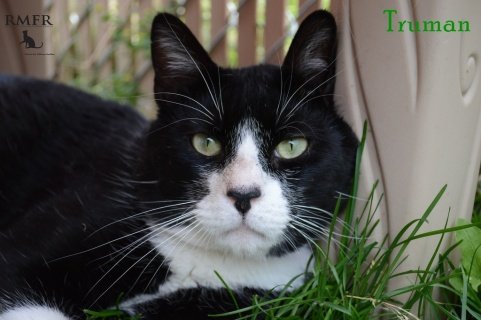Cat: (0, 7, 382, 319)
